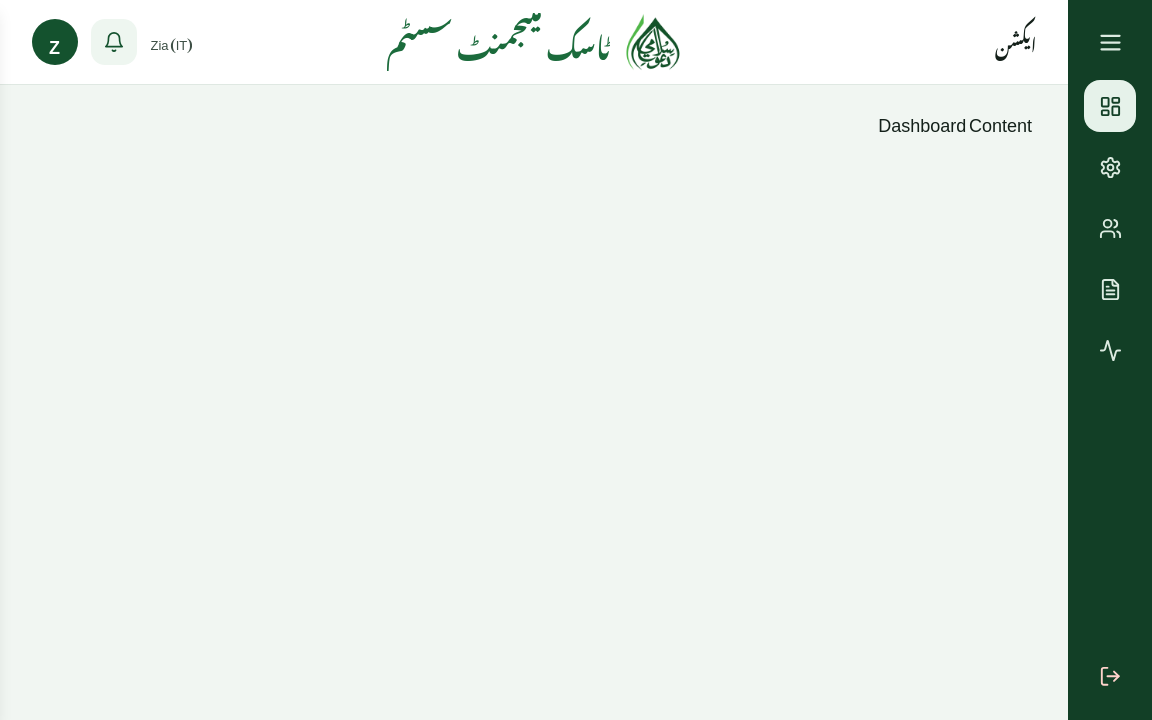
Test case: AppLayout — desktop shell › sidebar › expands to 236px with labels (no tooltips needed then), and collapses again
Click the button named "سائیڈبار پھیلائیں" at (1110, 42), box [1086, 18, 1134, 66]
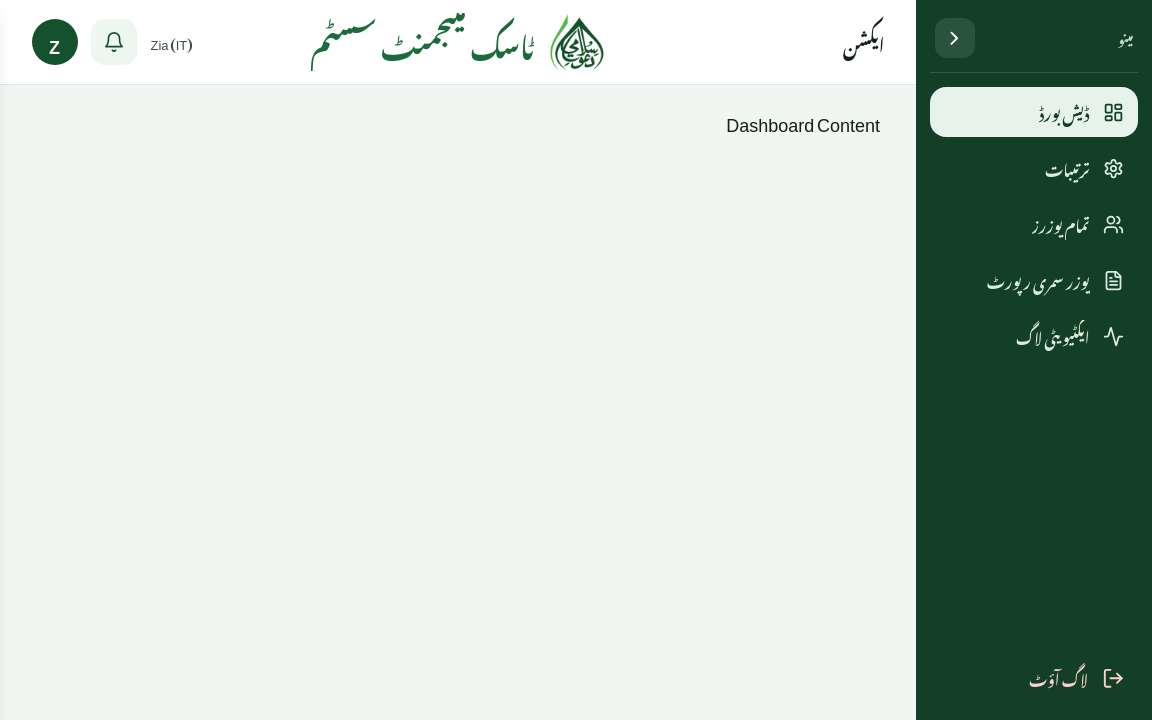
Expected: the links read "ڈیش بورڈ", "ترتیبات", "تمام یوزرز", "یوزر سمری رپورٹ", "ایکٹیویٹی لاگ", in this order, [930, 87, 1138, 137]; [1045, 148, 1124, 186]; [1032, 204, 1124, 242]; [987, 260, 1124, 298]; [1016, 316, 1124, 354]
Expected: the button "لاگ آؤٹ" is shown, [930, 654, 1138, 702]
Expected: the button named "سائیڈبار سکیڑیں" is expanded
Click the button named "سائیڈبار سکیڑیں" at (954, 38), box [934, 18, 974, 58]
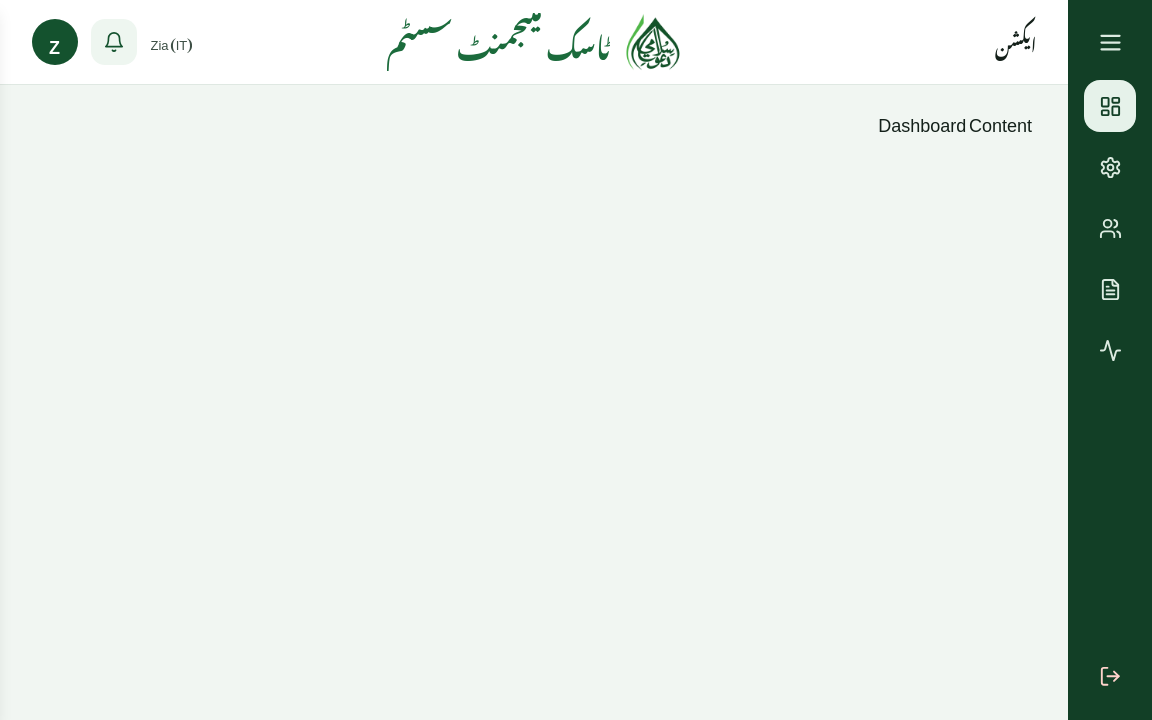
Expected: the button named "سائیڈبار پھیلائیں" is collapsed, [1086, 18, 1134, 66]
